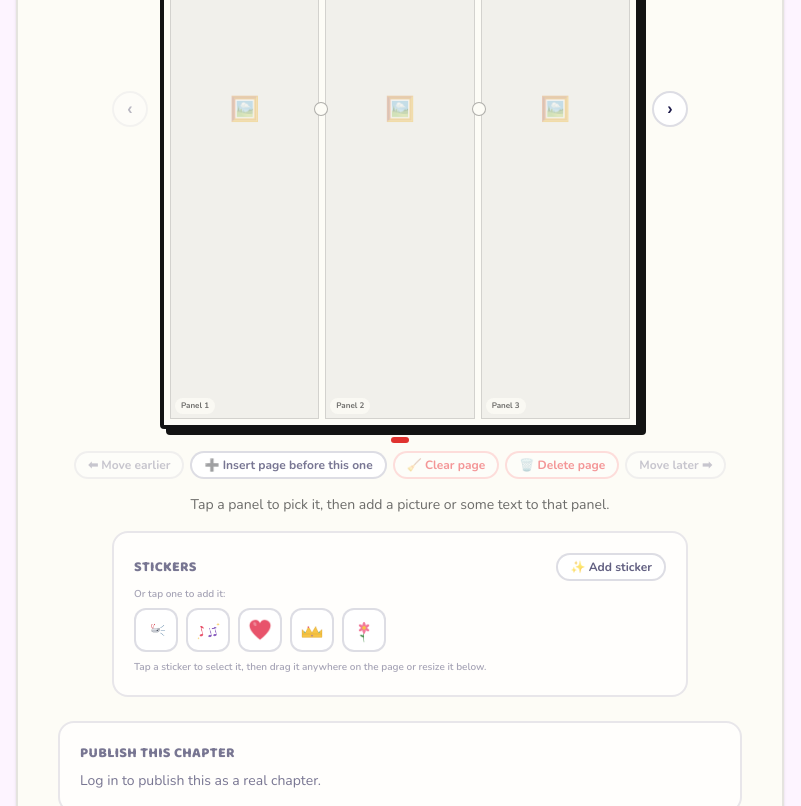
PanelBuilder › lets a bubble text size be changed anywhere from 13 to 50px, defaulting to 16px
(page scrolled)
Click the text "Panel 1" at (195, 406), box [175, 398, 215, 414]
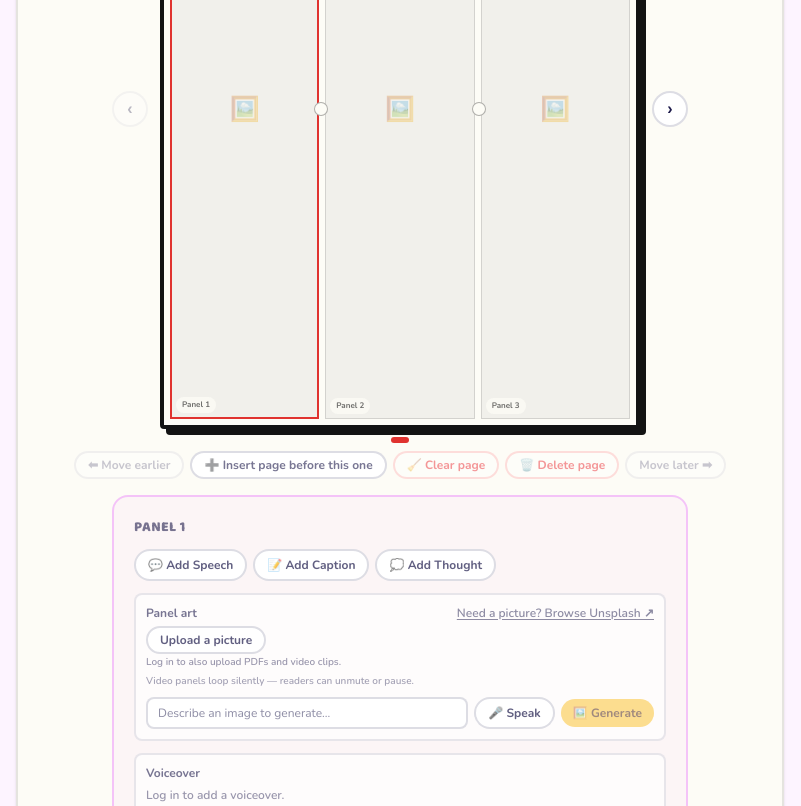
Click the button "💬 Add Speech" at (191, 565), box [134, 549, 247, 581]
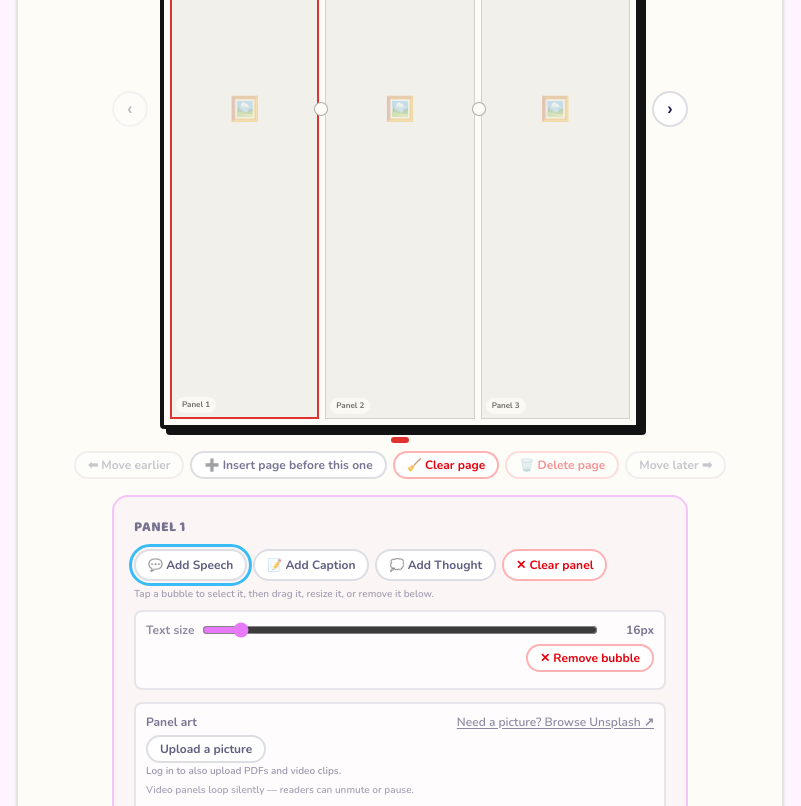
Result: the slider labelled "Text size" holds "16"
Result: the text "16px" is shown at [626, 622, 654, 638]
Set the slider labelled "Text size" to "45" at (539, 630), box [202, 626, 598, 634]
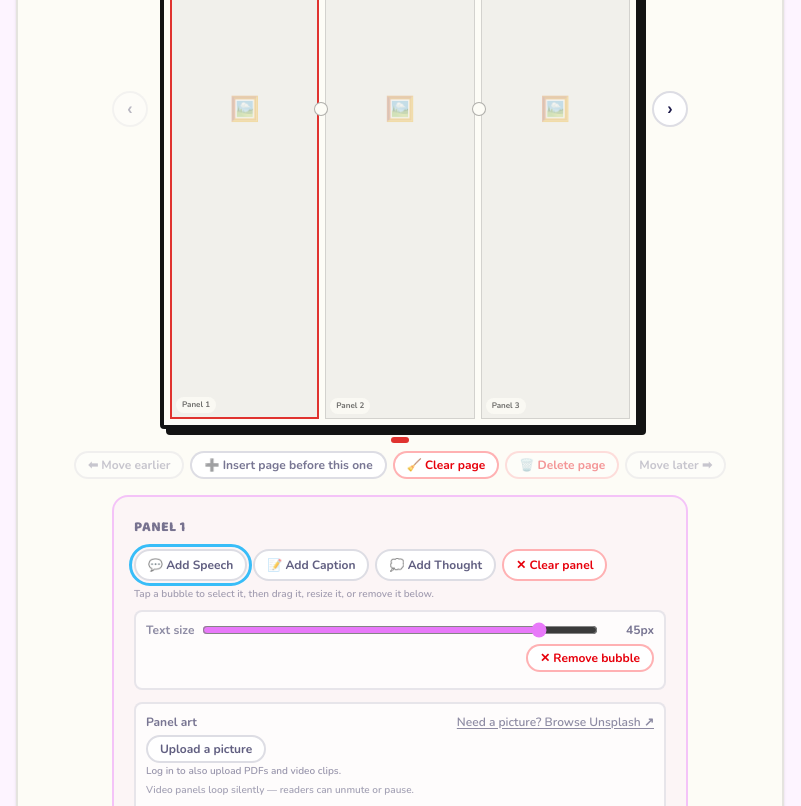
Result: the text "45px" is shown at [626, 622, 654, 638]
